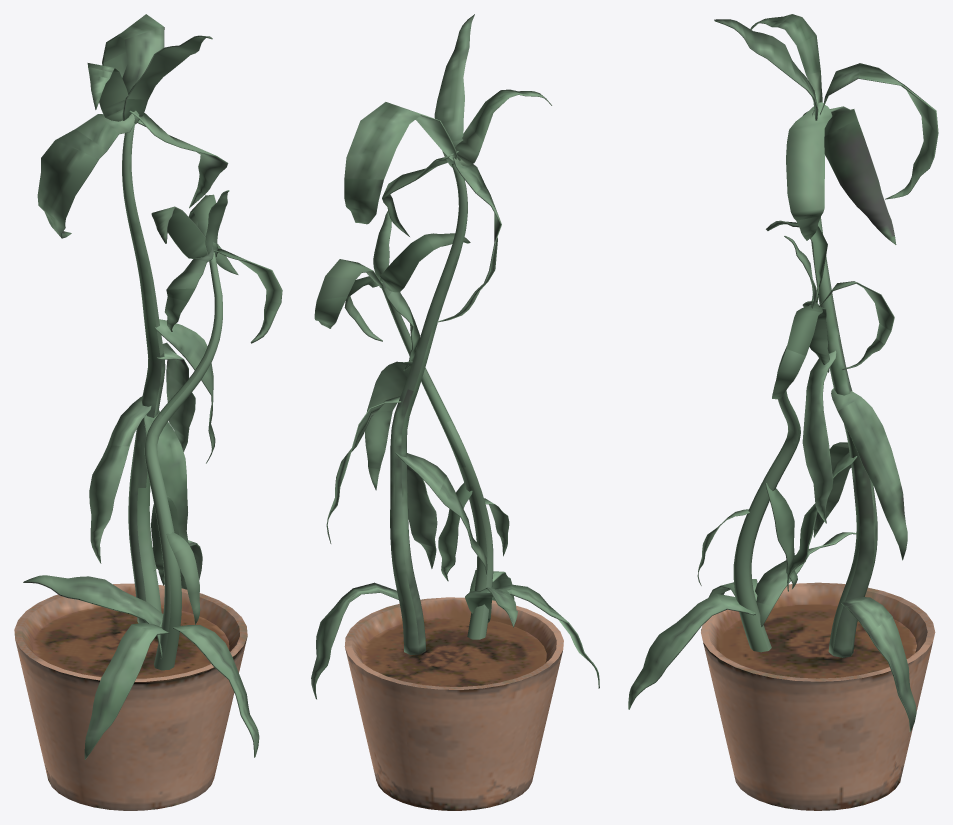
File: lobby_plant.fbx
3 renders of one model, left to right at view 1: azimuth 30°, elevation 25°; view 2: azimuth 150°, elevation 25°; view 3: azimuth 270°, elevation 25°, orthographic. The views are drawn at different scales.
Visible parts, largest first — view 1: planter, plant1, plant2; view 2: planter, plant1, plant2; view 3: planter, plant1, plant2.
Part boxes in pixels (x1=…): planter: x1=14, y1=583, x2=247, y2=810; plant1: x1=37, y1=14, x2=228, y2=623; plant2: x1=23, y1=190, x2=282, y2=759; planter: x1=344, y1=597, x2=563, y2=810; plant1: x1=311, y1=14, x2=551, y2=699; plant2: x1=314, y1=211, x2=599, y2=688; planter: x1=701, y1=582, x2=935, y2=810; plant1: x1=714, y1=14, x2=938, y2=731; plant2: x1=628, y1=220, x2=894, y2=709.
Bounding box in the file's own units: 230 × 725 × 264.
